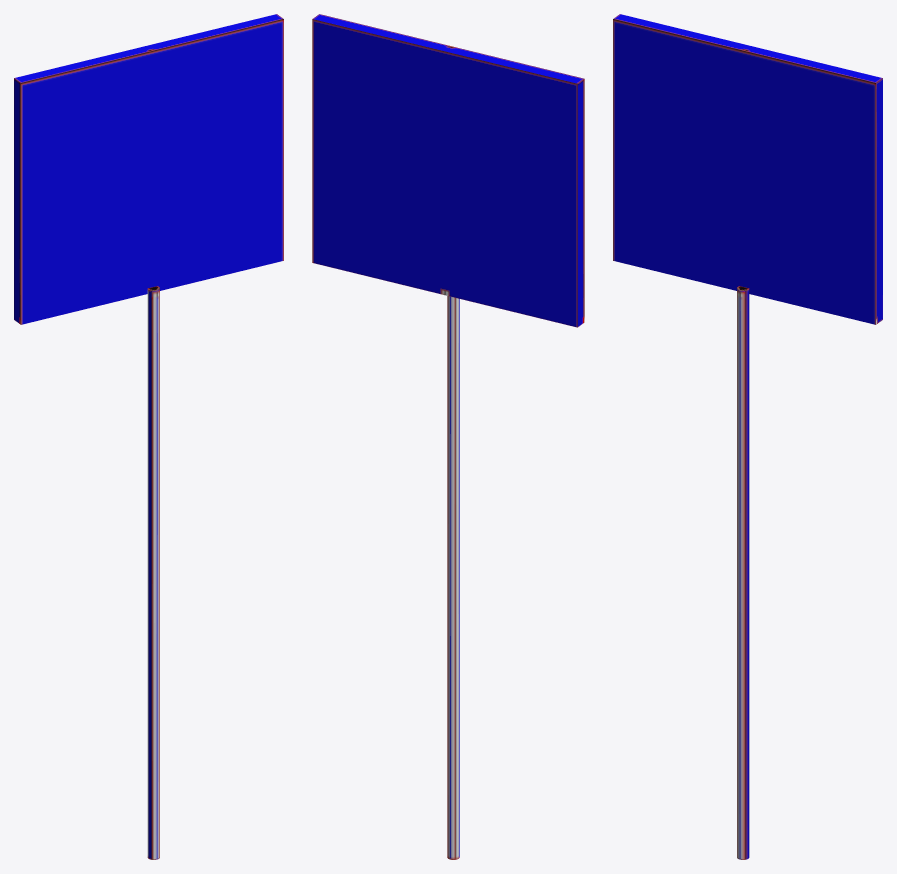
The model's file is Flag2.DAE.
The picture shows the model from 3 angles, left to right: view 1: azimuth 30°, elevation 25°; view 2: azimuth 150°, elevation 25°; view 3: azimuth 330°, elevation 25°; orthographic projection.
Parts seen in each view (by area): view 1: Box01; view 2: Box01; view 3: Box01.
Part boxes in pixels (<box>): Box01: <box>14,14,283,859</box>; Box01: <box>312,14,584,859</box>; Box01: <box>613,14,882,859</box>.
Bounding box in the file's own units: 24.18 × 1.83 × 70.75.
